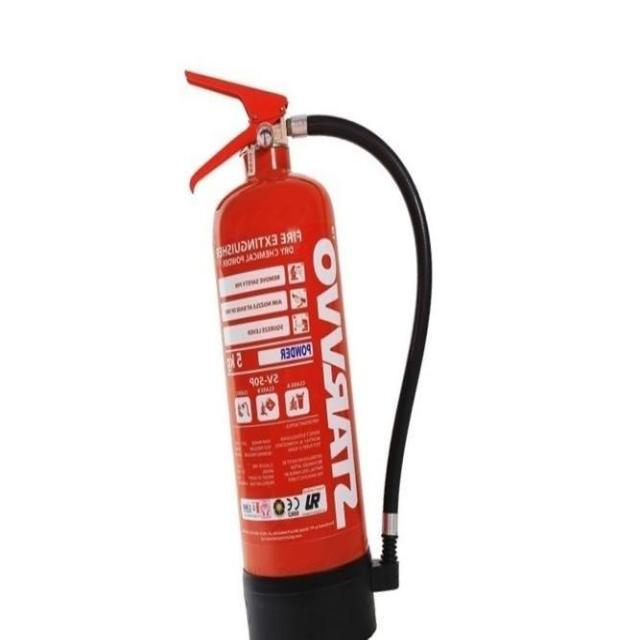fire_extinguisher: (178, 64, 436, 639)
